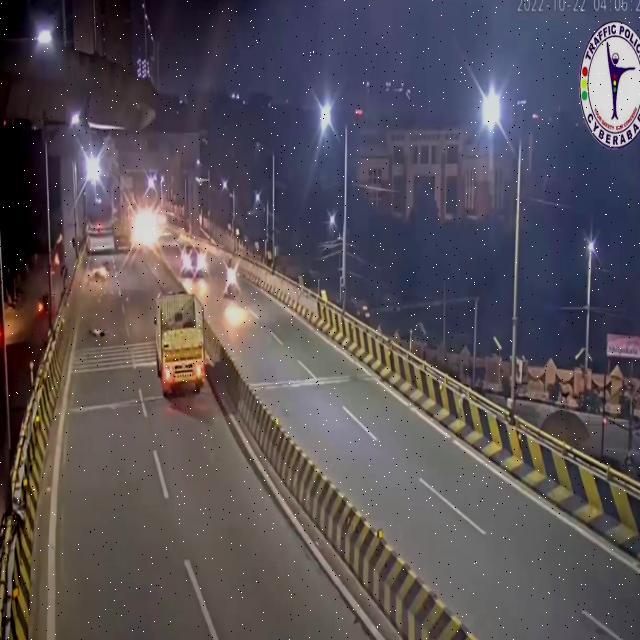accident: (84, 255, 113, 288)
